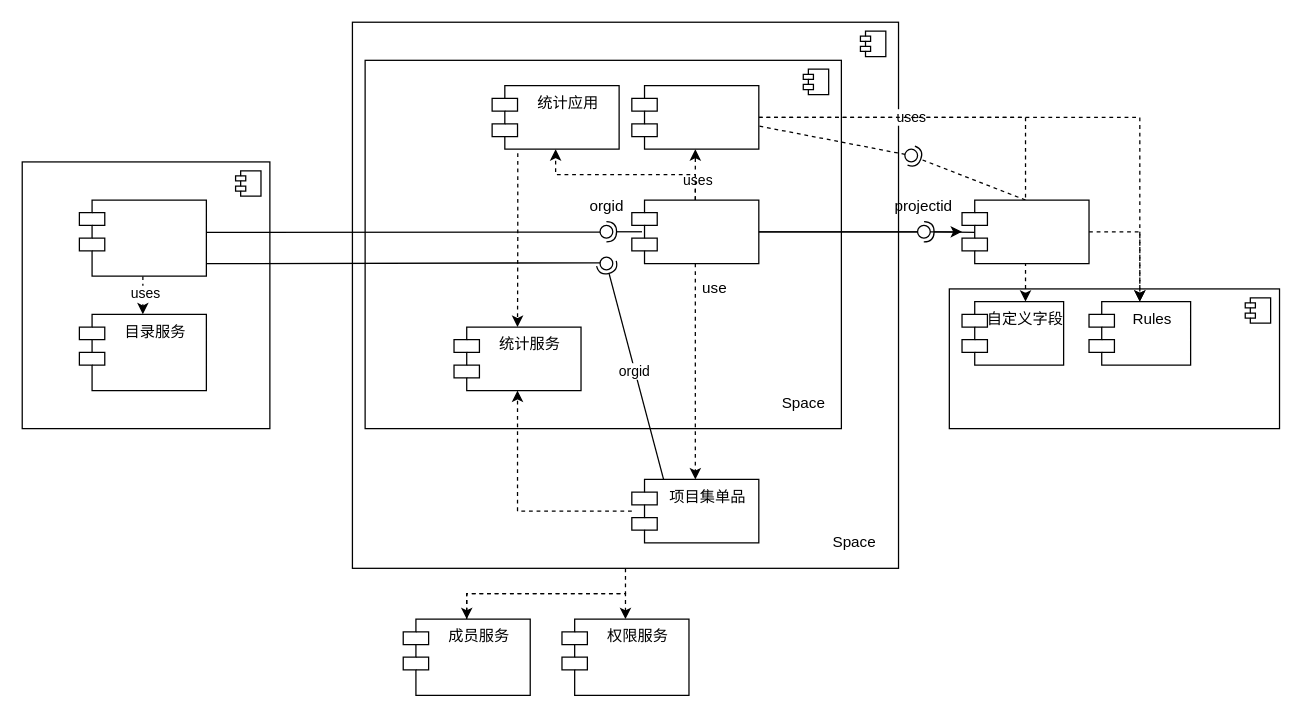
This 1302x718 diagram has some shape labels left out. Here are the shapes that lost their labels. From the top down, the centre of each, then its label:
the point at 695,116: 敏捷应用
the point at 142,237: 企业管理
the point at 695,231: 项目单品
the point at 1025,231: 任务单品
